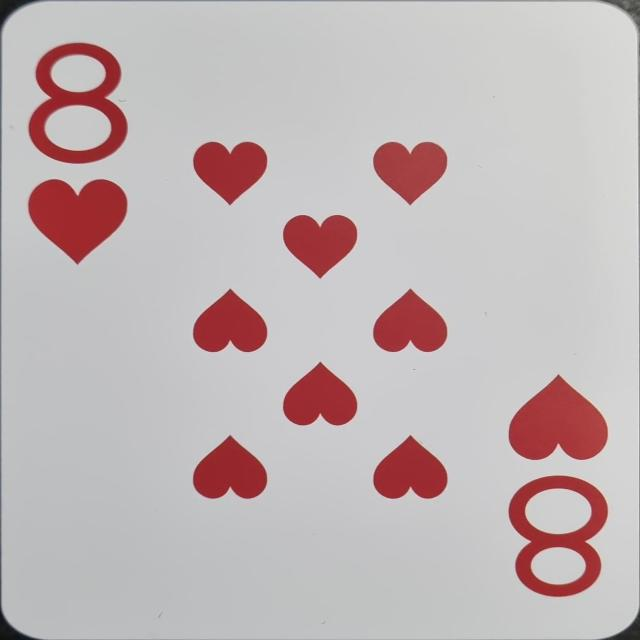8h: (15, 31, 139, 282), (492, 361, 616, 608)
